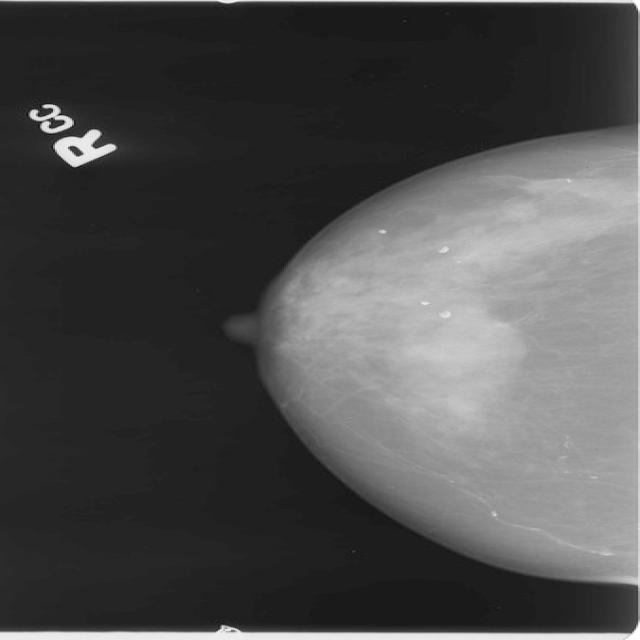tumour: (439, 315, 519, 365)
